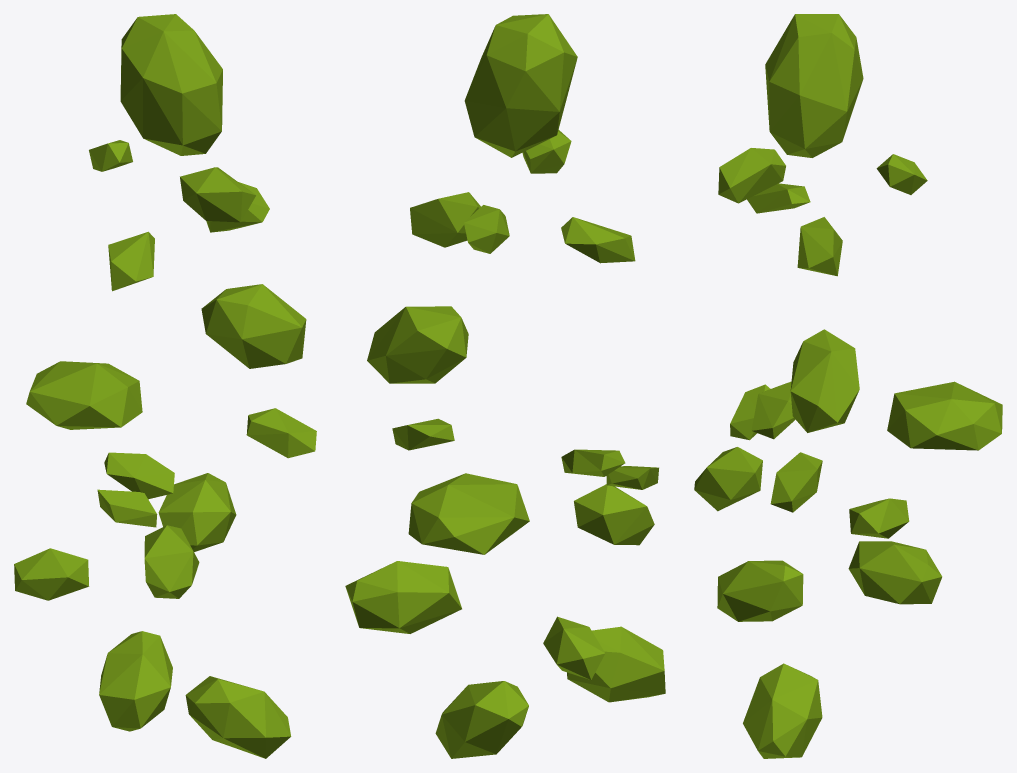
Rendered from tree-summer-leaves-026.glb.
The picture shows the model from 3 angles, left to right: view 1: azimuth 30°, elevation 25°; view 2: azimuth 150°, elevation 25°; view 3: azimuth 270°, elevation 25°; orthographic projection. The views are drawn at different scales.
Parts seen in each view (by area): view 1: Icosphere.012_255; view 2: Icosphere.012_255; view 3: Icosphere.012_255.
Boxes of the visible parts, box(x1,y1,x2,y2) form: Icosphere.012_255: box(14, 14, 316, 758); Icosphere.012_255: box(345, 14, 665, 758); Icosphere.012_255: box(694, 14, 1002, 758).
Bounding box in the file's own units: 0.7023 × 1.96 × 0.7754.
